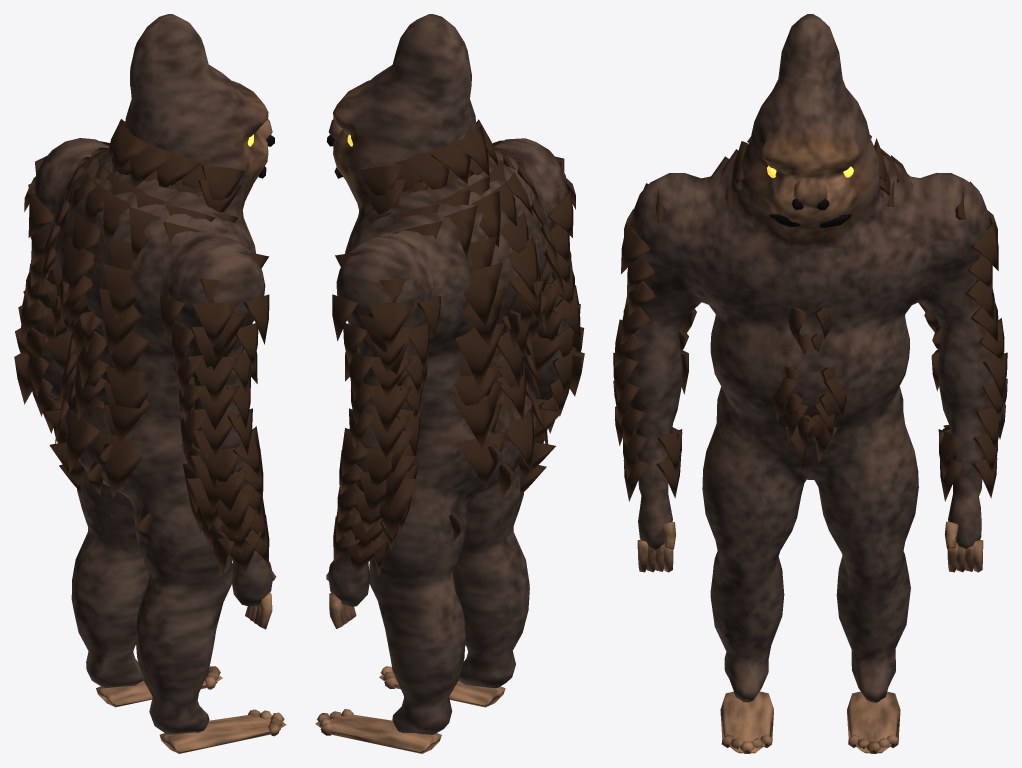
File: sasquatch.glb
The picture shows the model from 3 angles, left to right: view 1: azimuth 30°, elevation 25°; view 2: azimuth 150°, elevation 25°; view 3: azimuth 270°, elevation 25°; orthographic projection.
Parts seen in each view (by area): view 1: sasquatch.001; view 2: sasquatch.001; view 3: sasquatch.001.
Boxes of the visible parts, x1,y1,x2,y2 form: sasquatch.001: (14, 14, 286, 753); sasquatch.001: (315, 14, 584, 753); sasquatch.001: (613, 14, 1007, 753).
Bounding box in the file's own units: 0.759 × 2.44 × 1.25.
6 materials, 1 textured.
